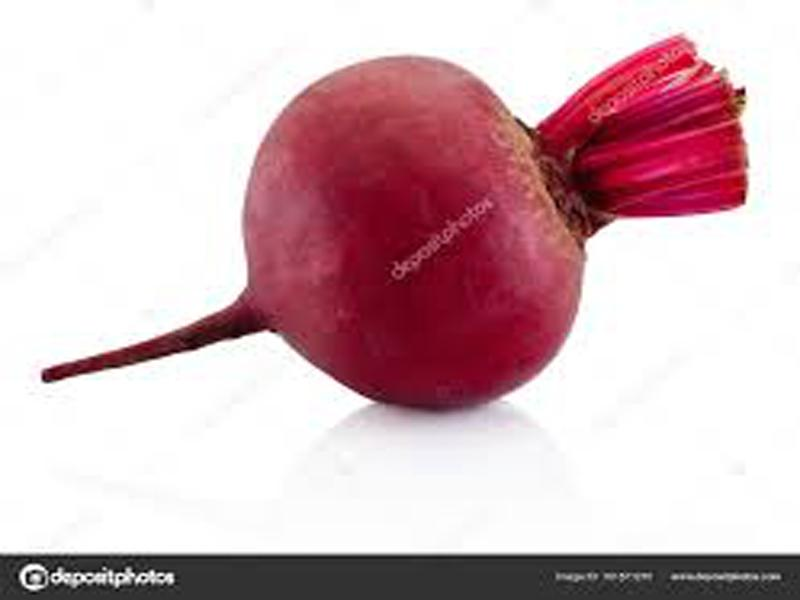Beet: (42, 39, 749, 410)
